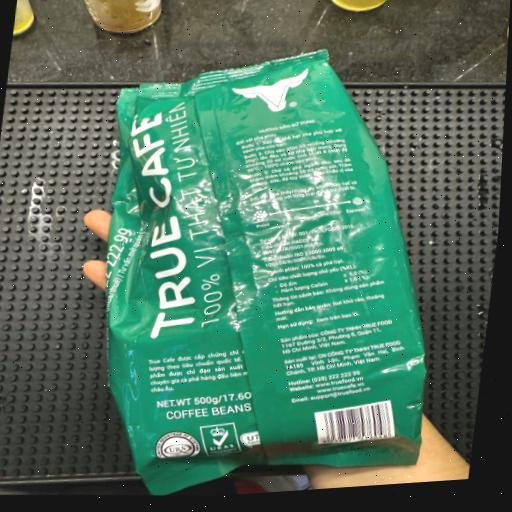cafe_xay: (107, 50, 425, 495), (195, 51, 425, 467)
